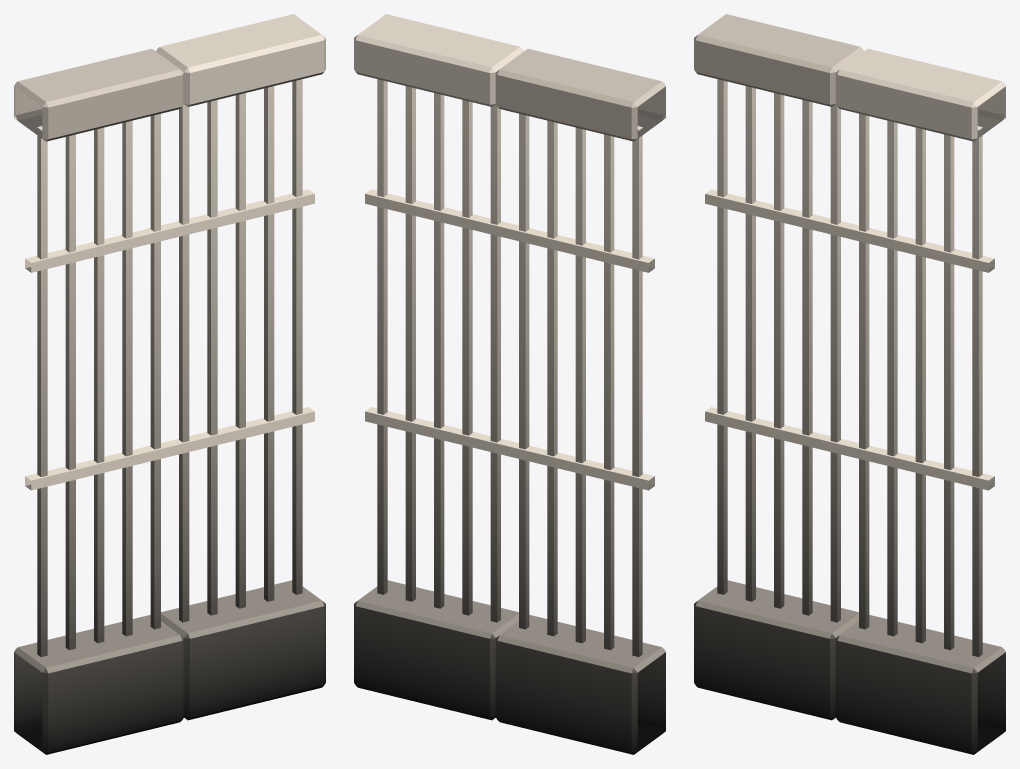
The model's file is SM_VKI_Wall_Bars_Plain_150A_Full.fbx.
The picture shows the model from 3 angles, left to right: view 1: azimuth 30°, elevation 25°; view 2: azimuth 150°, elevation 25°; view 3: azimuth 330°, elevation 25°; orthographic projection.
Visible parts, largest first — view 1: SM_VKI_Wall_Bars_Plain_150A_Full.001; view 2: SM_VKI_Wall_Bars_Plain_150A_Full.001; view 3: SM_VKI_Wall_Bars_Plain_150A_Full.001.
Part boxes in pixels (x1=…): SM_VKI_Wall_Bars_Plain_150A_Full.001: x1=14, y1=14, x2=325, y2=754; SM_VKI_Wall_Bars_Plain_150A_Full.001: x1=354, y1=14, x2=665, y2=754; SM_VKI_Wall_Bars_Plain_150A_Full.001: x1=694, y1=14, x2=1005, y2=754.
Bounding box in the file's own units: 1.5 × 3.3 × 0.3.
